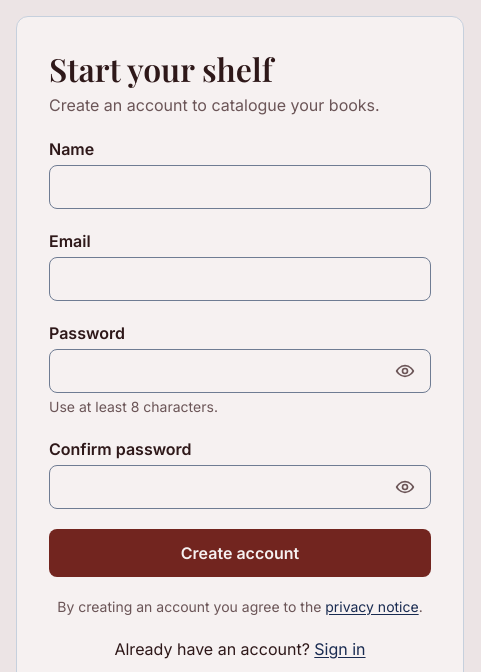
Test: RegisterForm › says how short the password is, in words that differ from the hint
The width and height of the screenshot is (481, 672).
Type "Alice" into the field labelled "Name" at (240, 187), box [49,165,431,209]
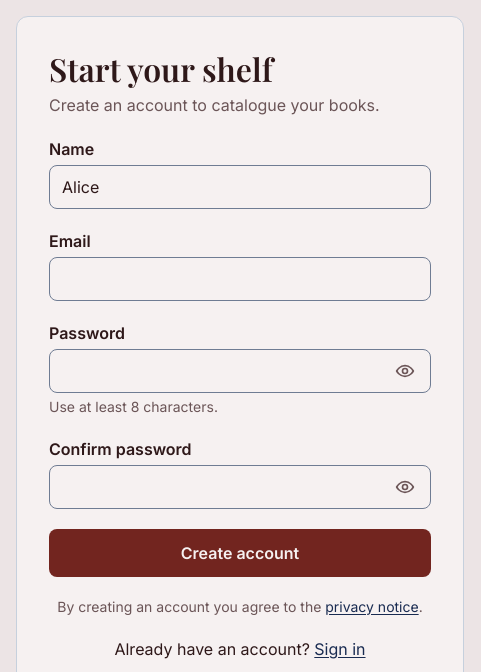
Type "alice@example.com" into the field labelled "Email" at (240, 279), box [49,257,431,301]
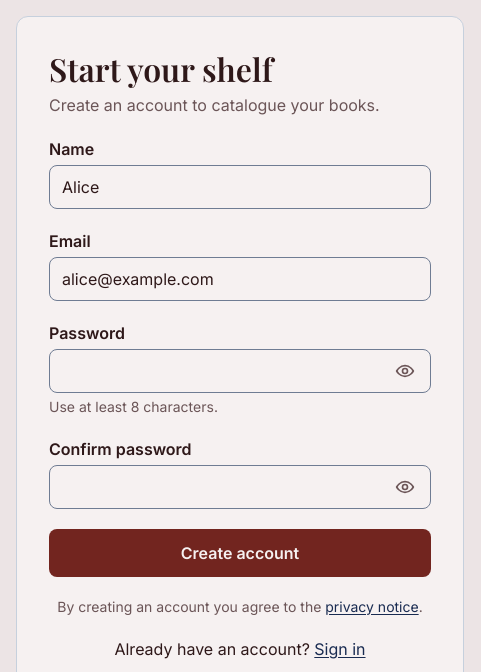
Type "123" into the password field labelled "Password" at (240, 371), box [49,349,431,393]
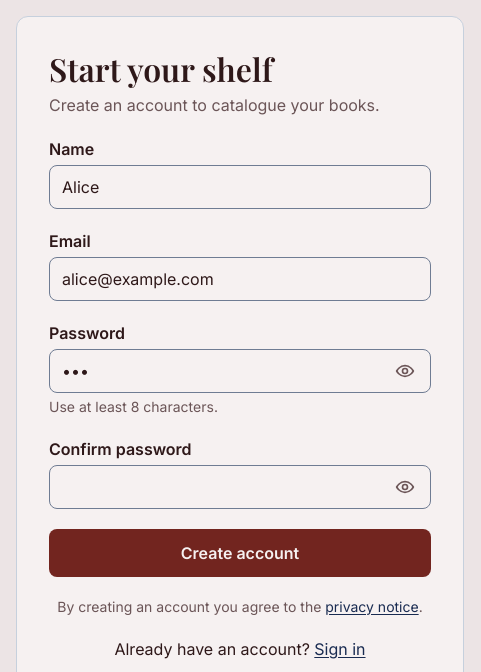
Type "123" into the password field labelled "Confirm password" at (240, 487), box [49,465,431,509]
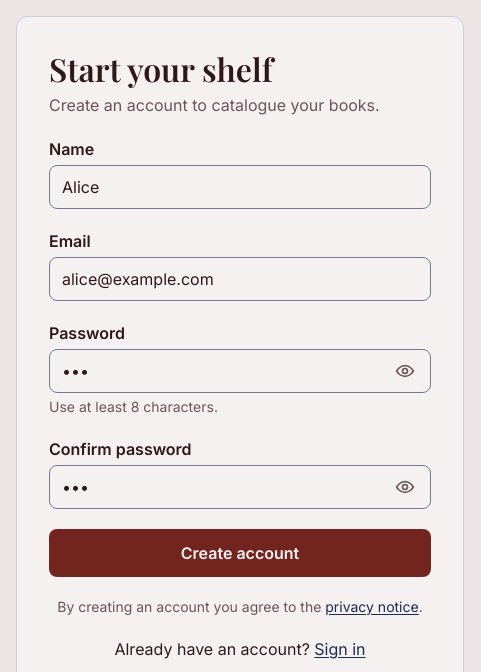
Click the button "Create account" at (240, 553), box [49,529,431,577]
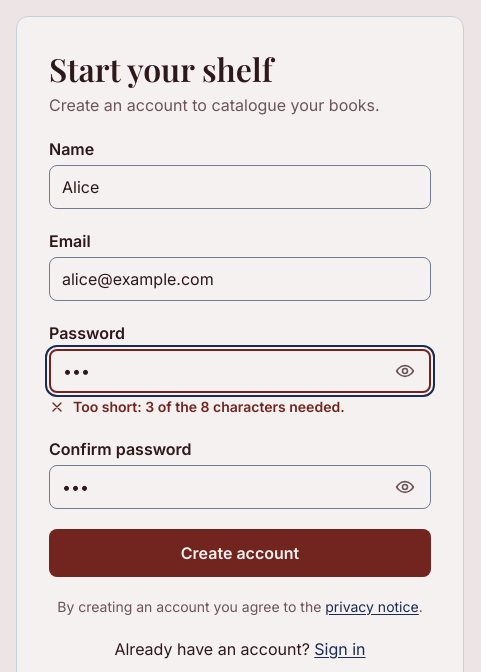
Expected: the text "Too short: 3 of the 8 characters needed." is shown, [73,397,345,417]
Expected: the text "Use at least 8 characters." is gone
